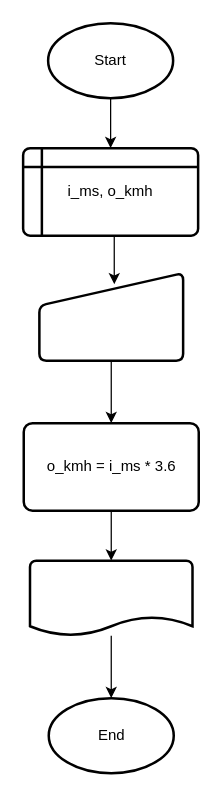
Image size: 221x795. Some labels were removed from this diagram. Here are the shapes that lost their labels. From the top down, the centre of each, then its label:
the point at 111,316: i_ms
the point at 110,597: o_kmh
